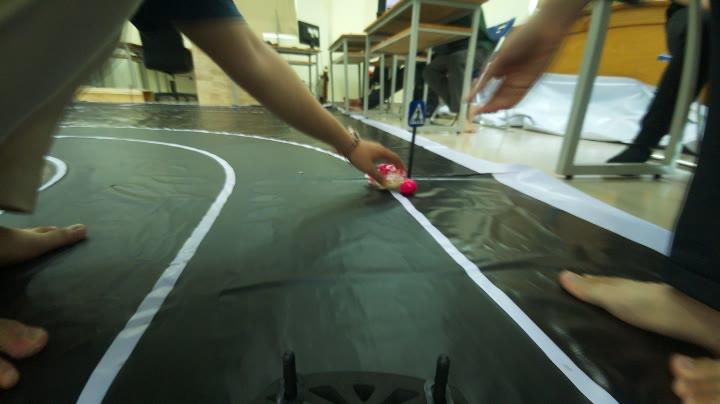crosswalk: (402, 94, 431, 129)
